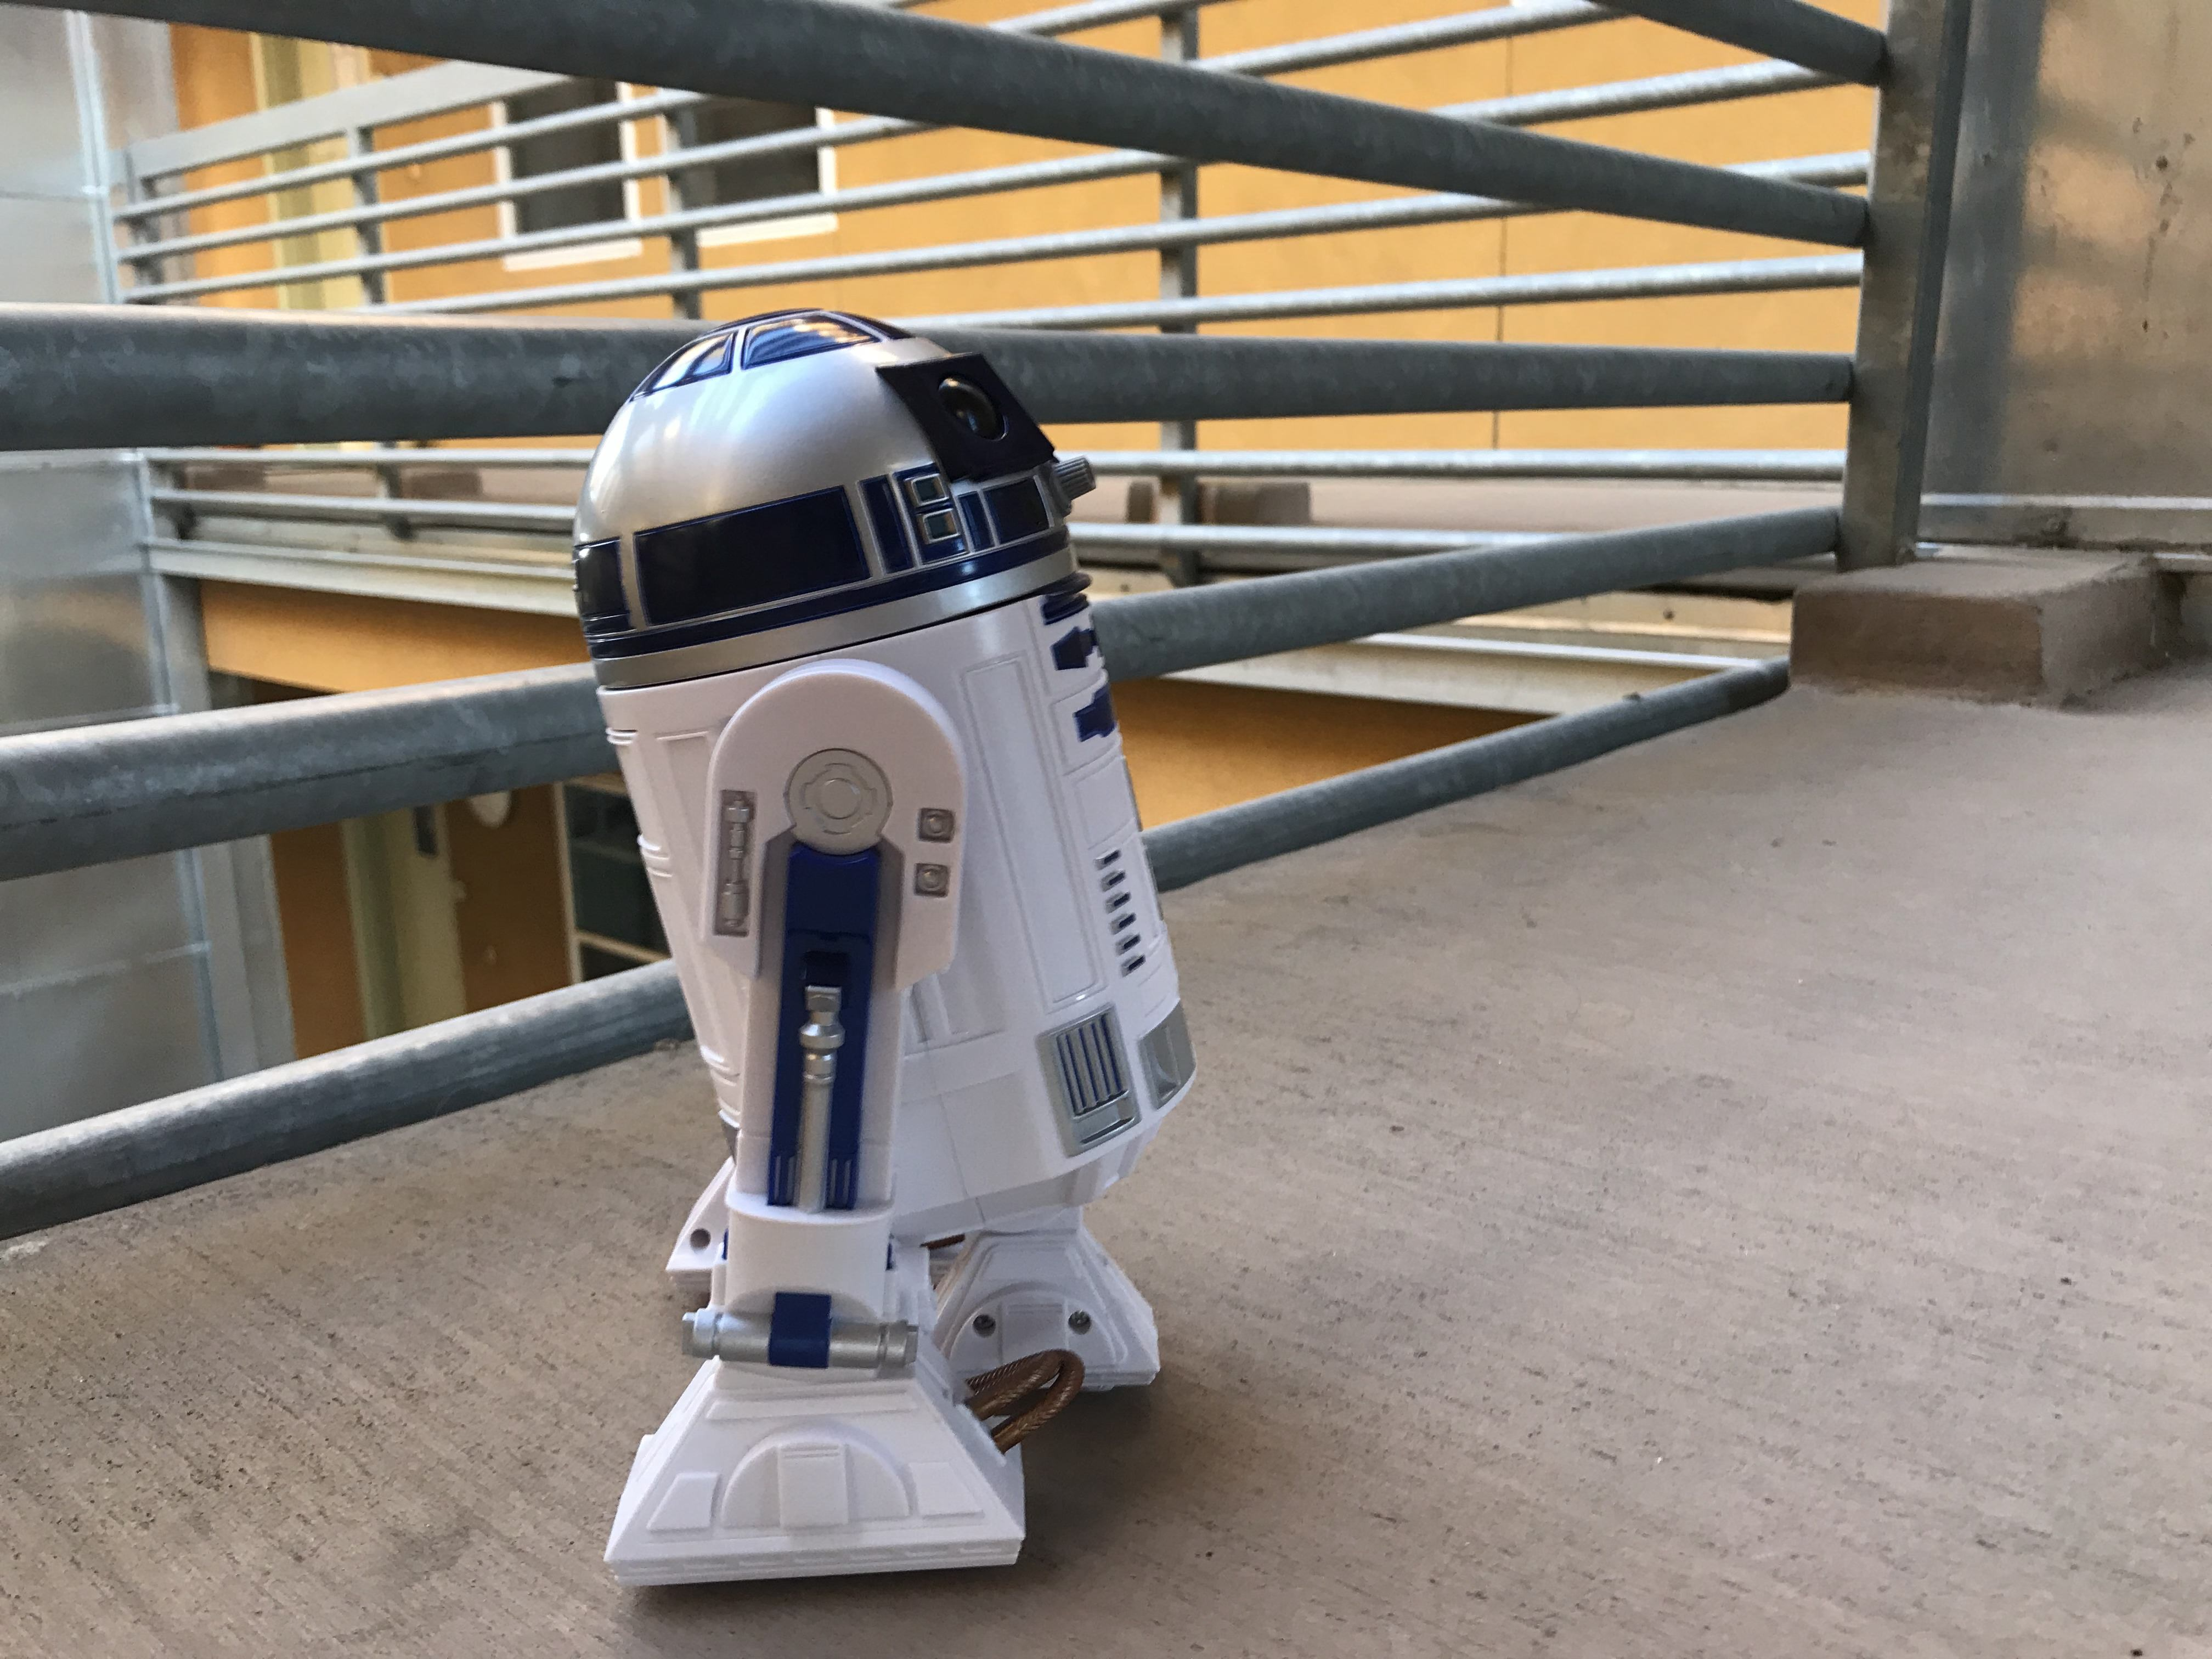r2d2: (577, 308, 1200, 1581)
